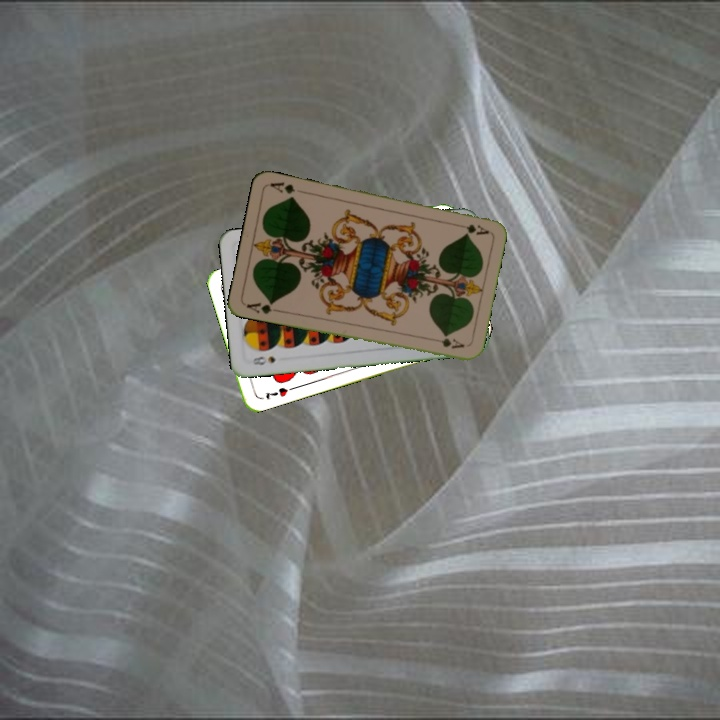GA: (242, 298, 283, 317), (451, 220, 491, 237)
H7: (261, 383, 290, 402)
S8: (245, 352, 278, 367)
